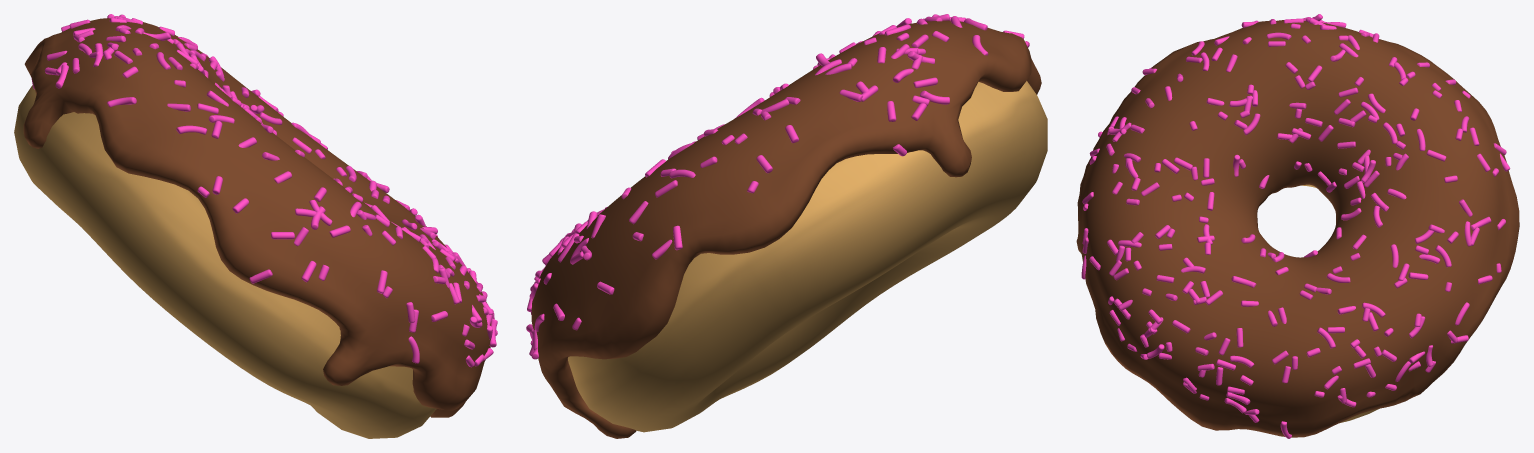
The model's file is Donut.glb.
3 views of the same model, side by side, from view 1: azimuth 30°, elevation 25°; view 2: azimuth 150°, elevation 25°; view 3: azimuth 270°, elevation 25° (orthographic). The views are drawn at different scales.
Visible parts, largest first — view 1: Icing.006, Donut.006; view 2: Icing.006, Donut.006; view 3: Icing.006.
Part boxes in pixels (x1,y1,x2,y2): Icing.006: [23, 14, 497, 417]; Donut.006: [14, 85, 436, 438]; Icing.006: [526, 14, 1041, 438]; Donut.006: [568, 81, 1047, 432]; Icing.006: [1076, 14, 1519, 438].
Bounding box in the file's own units: 0.1086 × 0.1033 × 0.1305.
3 materials, 1 textured.
